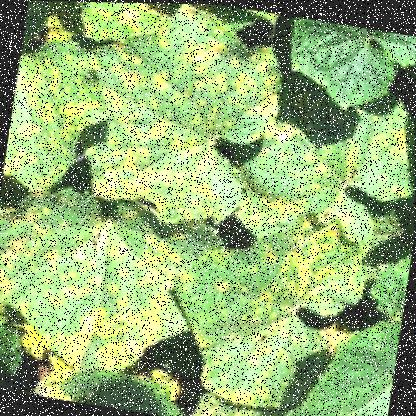DownyMildew: (75, 18, 271, 223), (183, 221, 343, 411), (0, 221, 188, 378), (2, 44, 81, 198)
